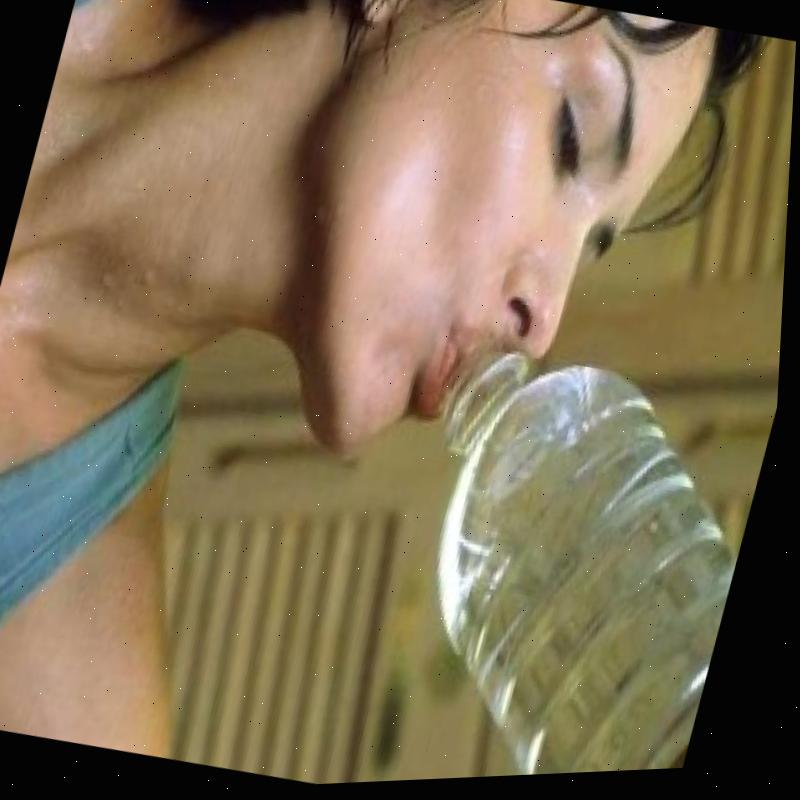botella: (335, 328, 785, 787)
